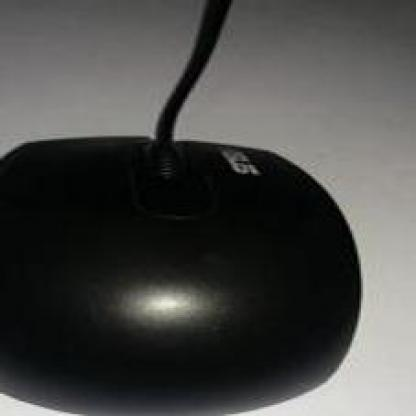mouse: (0, 94, 359, 414)
